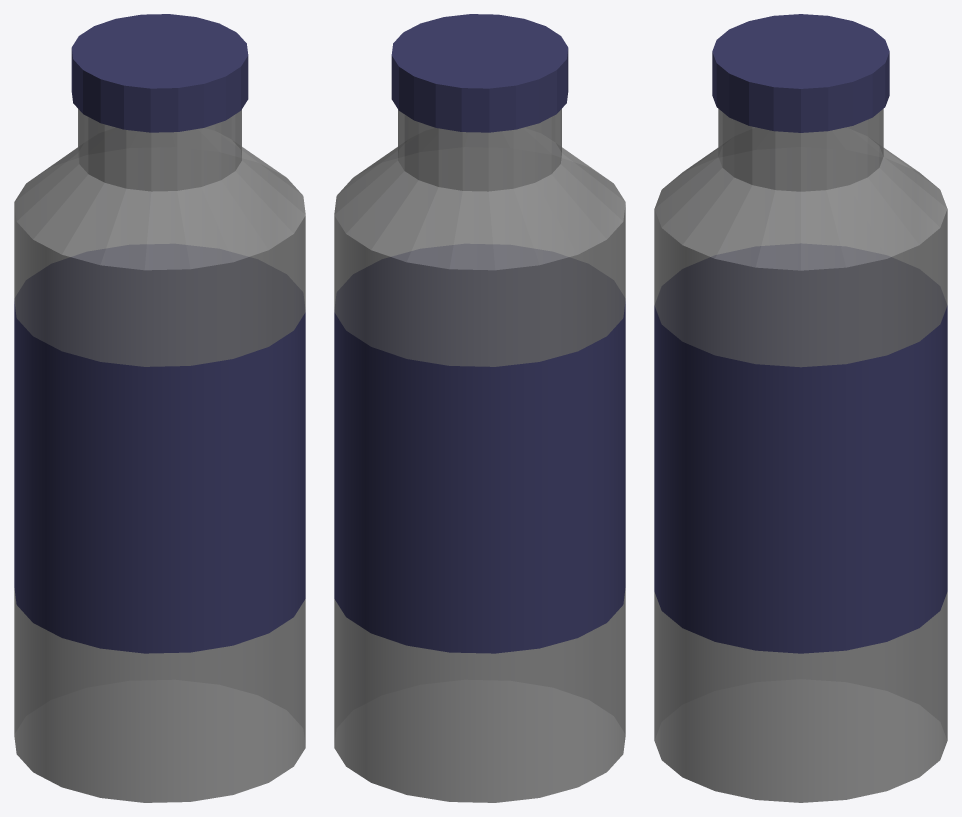
File: botellaVaciaCh.fbx
The picture shows the model from 3 angles, left to right: view 1: azimuth 30°, elevation 25°; view 2: azimuth 150°, elevation 25°; view 3: azimuth 270°, elevation 25°; orthographic projection.
Visible parts, largest first — view 1: pCylinder28; view 2: pCylinder28; view 3: pCylinder28.
Boxes of the visible parts, <box> form: pCylinder28: <box>14,14,305,802</box>; pCylinder28: <box>334,14,625,802</box>; pCylinder28: <box>654,14,947,802</box>.
Bounding box in the file's own units: 0.2458 × 0.6383 × 0.2458.
